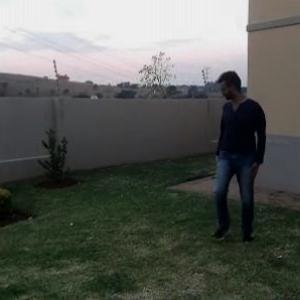follow: (210, 68, 270, 244)
